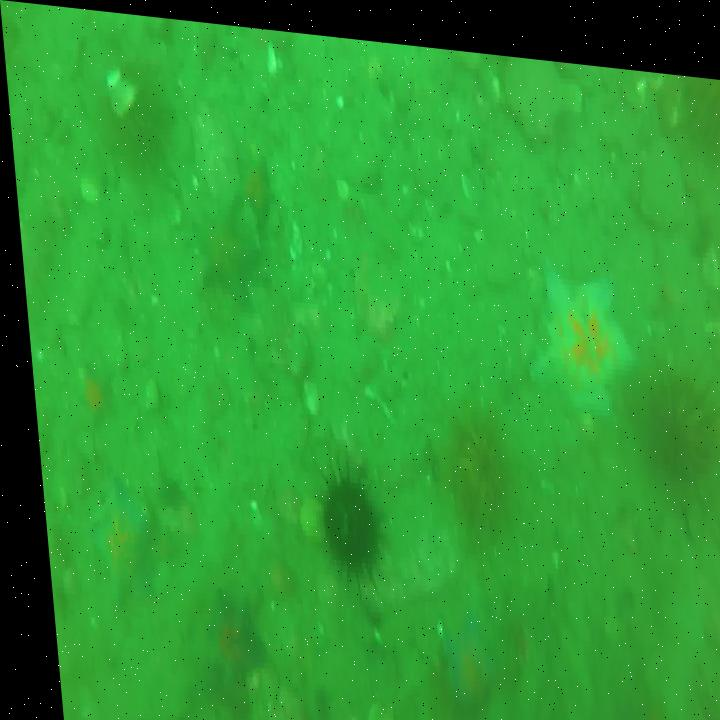echinus: (638, 354, 720, 484), (442, 392, 512, 542), (306, 451, 380, 591)
scallop: (100, 69, 141, 115)
starfish: (514, 243, 634, 420), (75, 471, 146, 616), (427, 594, 496, 710), (185, 194, 258, 291), (196, 588, 259, 695)
